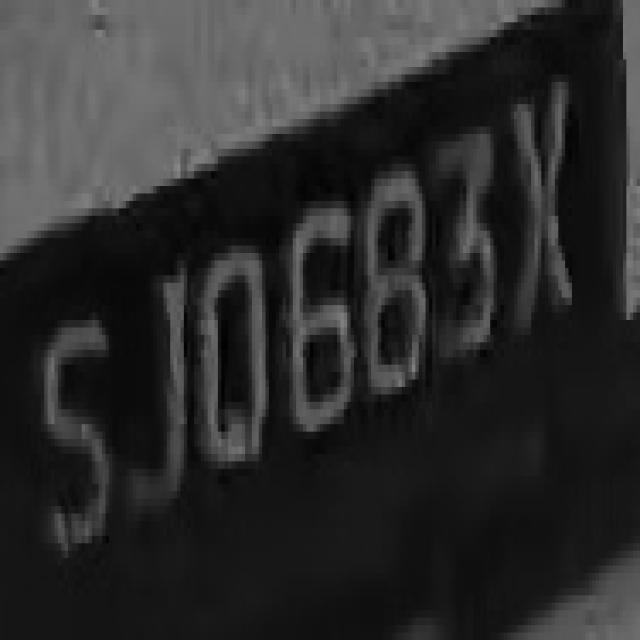3: (426, 104, 497, 387)
6: (286, 179, 357, 439)
8: (358, 126, 432, 432)
J: (109, 208, 194, 536)
Q: (184, 216, 276, 506)
S: (24, 290, 119, 580)
X: (494, 59, 582, 350)
